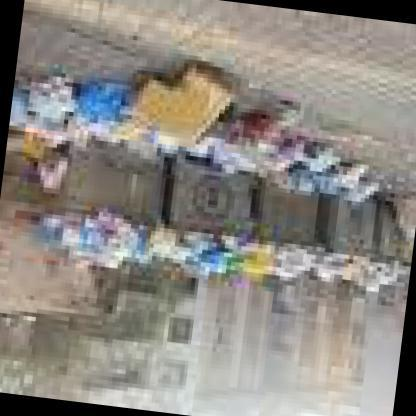Garbage: (11, 68, 226, 159), (35, 208, 189, 272), (228, 120, 364, 192), (143, 226, 288, 276), (290, 252, 402, 302)
